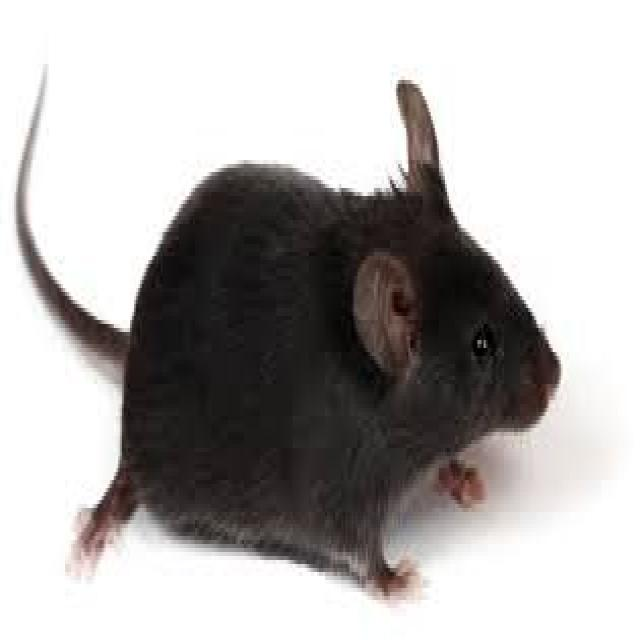Mouse: (16, 93, 568, 568)
